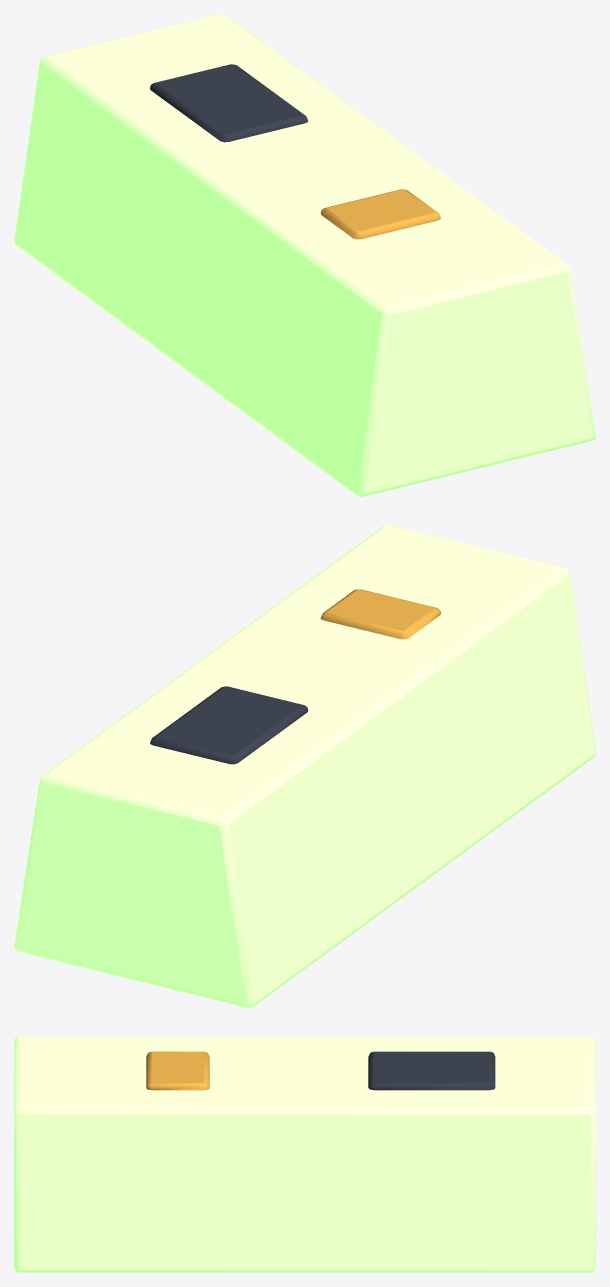
The model's file is ware_reaktorkern.fbx.
3 views of the same model, one above another, from view 1: azimuth 30°, elevation 25°; view 2: azimuth 150°, elevation 25°; view 3: azimuth 270°, elevation 25° (orthographic). The views are drawn at different scales.
Parts seen in each view (by area): view 1: ware_reaktorkern_Koerper; view 2: ware_reaktorkern_Koerper; view 3: ware_reaktorkern_Koerper.
Part boxes in pixels (bbox=[...]): ware_reaktorkern_Koerper: bbox=[14, 14, 595, 496]; ware_reaktorkern_Koerper: bbox=[14, 525, 595, 1007]; ware_reaktorkern_Koerper: bbox=[14, 1036, 595, 1272].
Size of the model in its own units: 0.2185 by 0.165 by 0.55.
